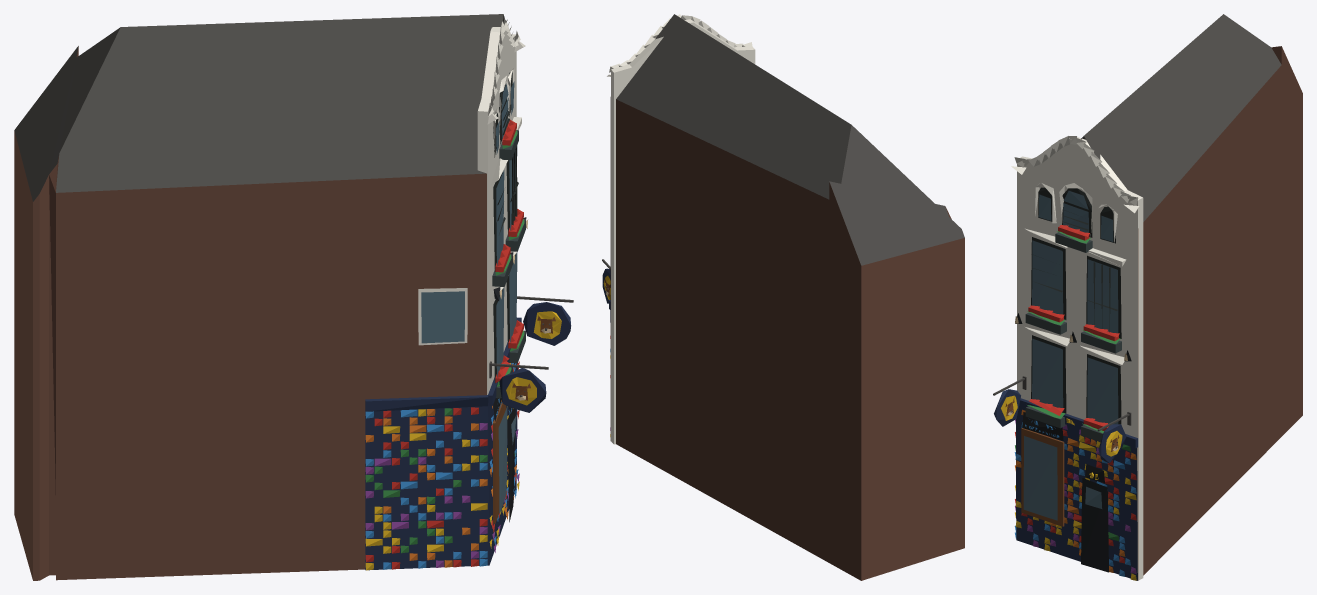
The model's file is bulldog-first.lod1.glb.
3 views of the same model, side by side, from view 1: azimuth 30°, elevation 25°; view 2: azimuth 150°, elevation 25°; view 3: azimuth 270°, elevation 25° (orthographic). The views are drawn at different scales.
Visible parts, largest first — view 1: bulldog-first; view 2: bulldog-first; view 3: bulldog-first.
Boxes of the visible parts, box(x1,y1,x2,y2) form: bulldog-first: box(14, 14, 573, 580); bulldog-first: box(602, 14, 964, 580); bulldog-first: box(993, 14, 1302, 580).
Size of the model in its own units: 13.84 by 13.68 by 9.
